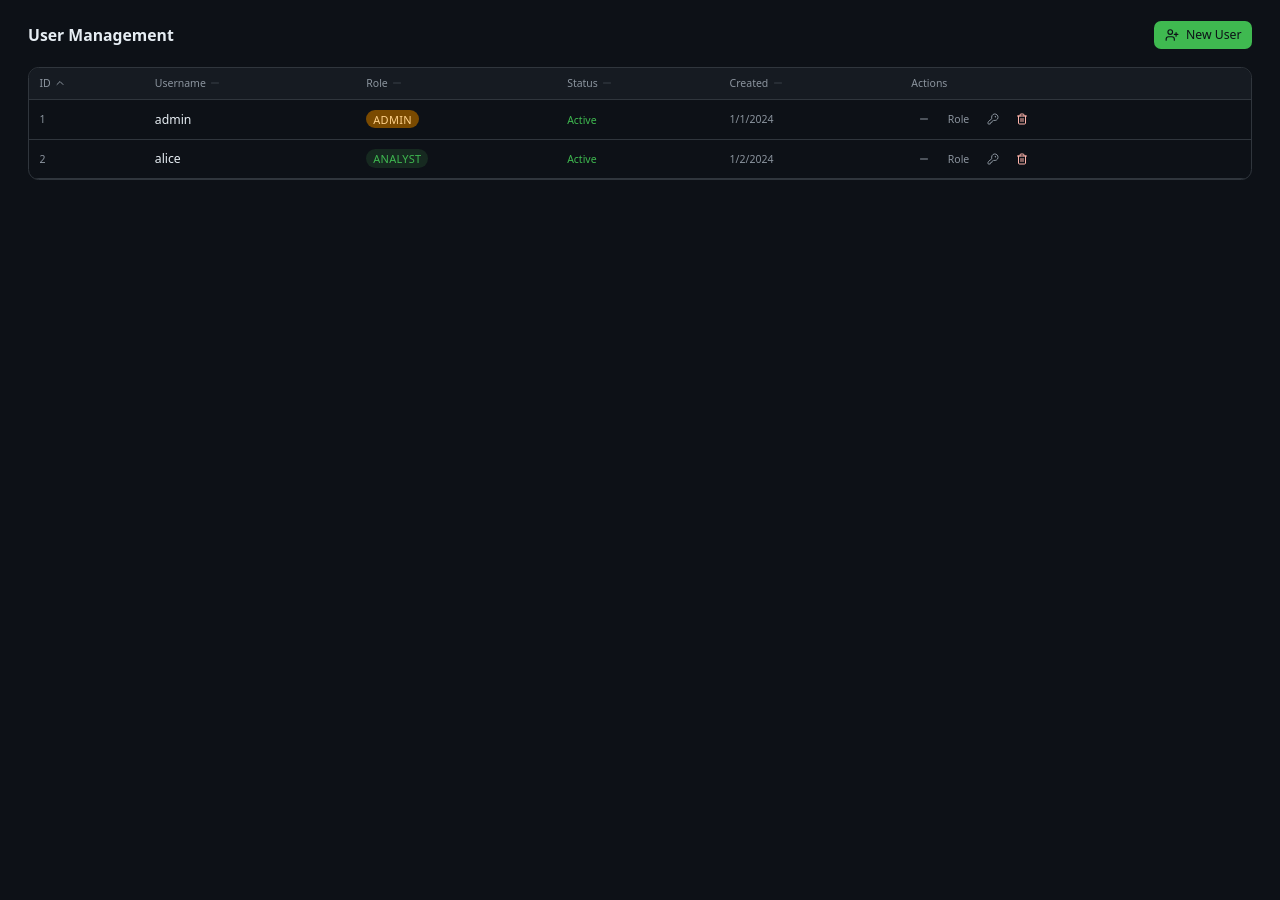
Users page › shows delete confirmation dialog when delete button clicked
Expected: the text "alice" is shown, [144, 139, 356, 178]
# Click delete button for a user
Click the button named "delete".
click(1022, 119)  # box [1009, 110, 1035, 129]
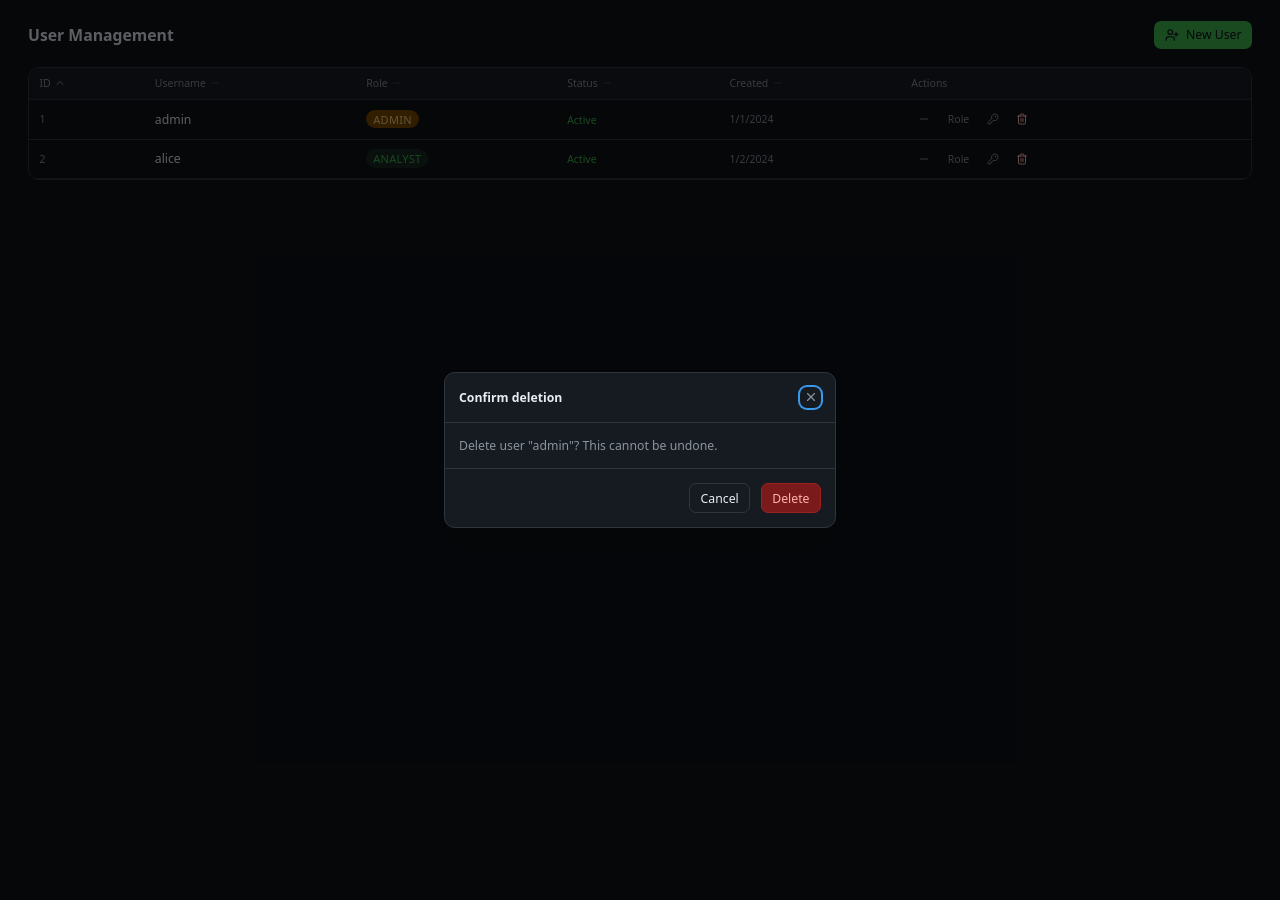
Now the dialog is shown, box [444, 372, 836, 528]
